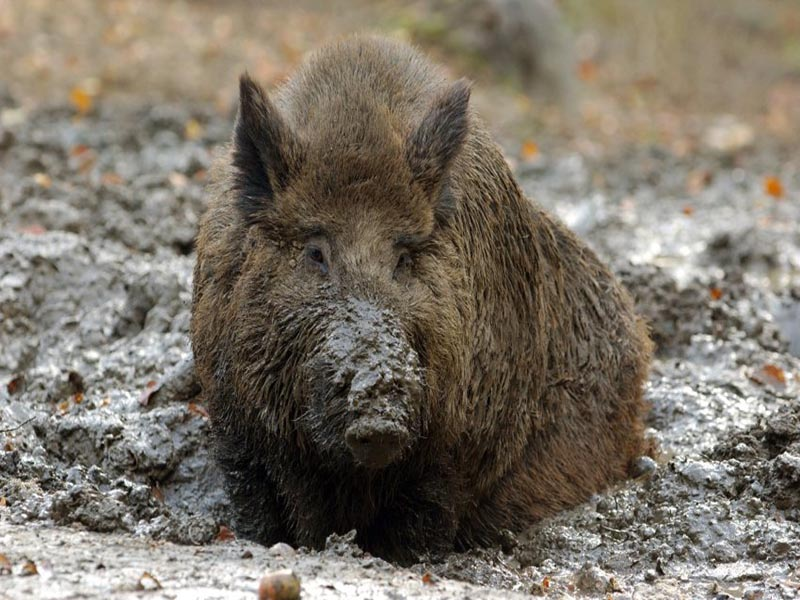cinghiale: (192, 26, 662, 573)
